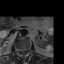CCS_normal: (22, 45, 24, 55)
LFS_normal: (26, 45, 28, 52)
LLS_normal: (24, 45, 26, 53)
RFS_normal: (18, 46, 20, 53)
RLS_normal: (20, 46, 22, 53)
